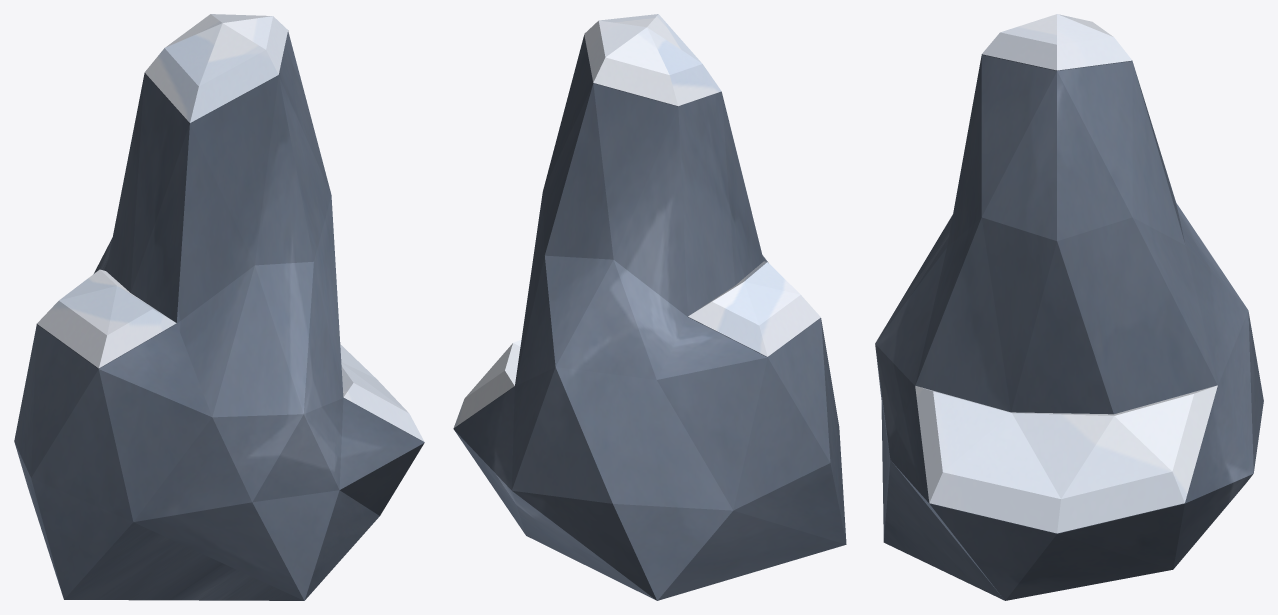
Rendered from Rock_3.fbx.
3 views of the same model, side by side, from view 1: azimuth 30°, elevation 25°; view 2: azimuth 150°, elevation 25°; view 3: azimuth 270°, elevation 25° (orthographic). The views are drawn at different scales.
Visible parts, largest first — view 1: Rock03; view 2: Rock03; view 3: Rock03.
Boxes of the visible parts, bbox=[...] form: Rock03: bbox=[14, 14, 424, 600]; Rock03: bbox=[453, 14, 846, 600]; Rock03: bbox=[875, 14, 1263, 600].
Bounding box in the file's own units: 1.49 × 2.06 × 1.37.
